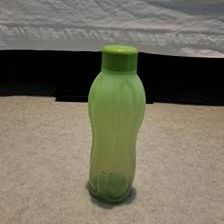bottle: (82, 43, 150, 206)
